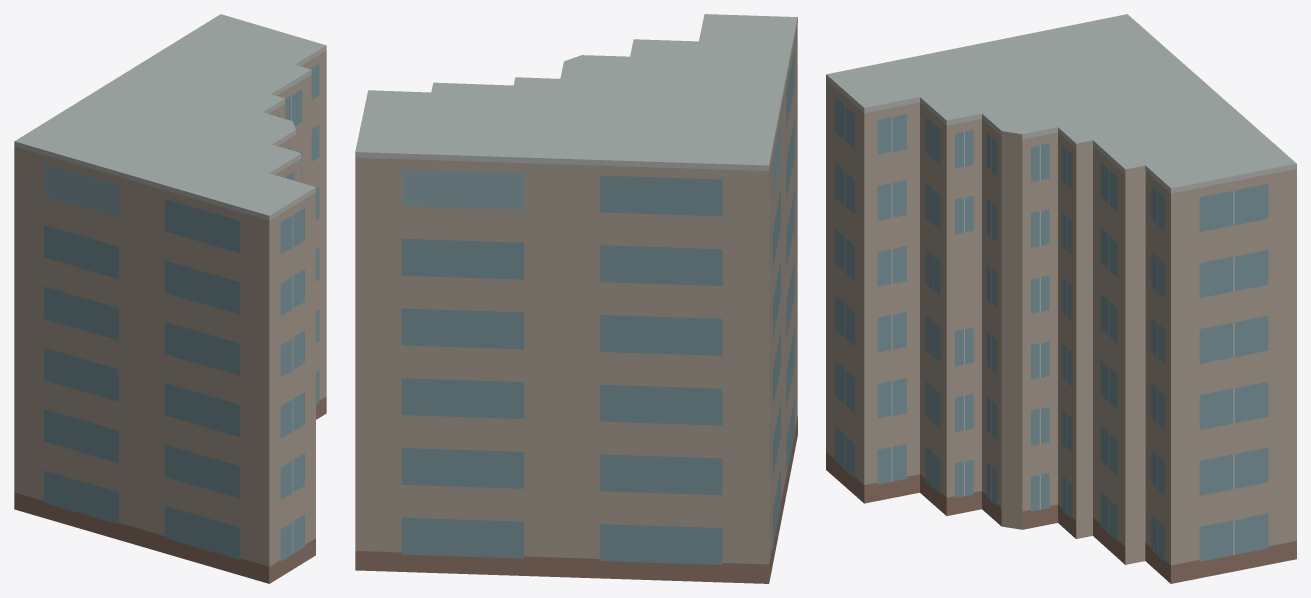
File: survey-upis-33044778.glb
3 renders of one model, left to right at view 1: azimuth 30°, elevation 25°; view 2: azimuth 150°, elevation 25°; view 3: azimuth 270°, elevation 25°, orthographic. The views are drawn at different scales.
Parts seen in each view (by area): view 1: survey-upis-33044778.tmp; view 2: survey-upis-33044778.tmp; view 3: survey-upis-33044778.tmp.
Part boxes in pixels (x1,y1,x2,y2): survey-upis-33044778.tmp: (14, 14, 326, 583); survey-upis-33044778.tmp: (355, 14, 797, 583); survey-upis-33044778.tmp: (826, 14, 1296, 583).
Bounding box in the file's own units: 17.31 × 18.3 × 19.75.
